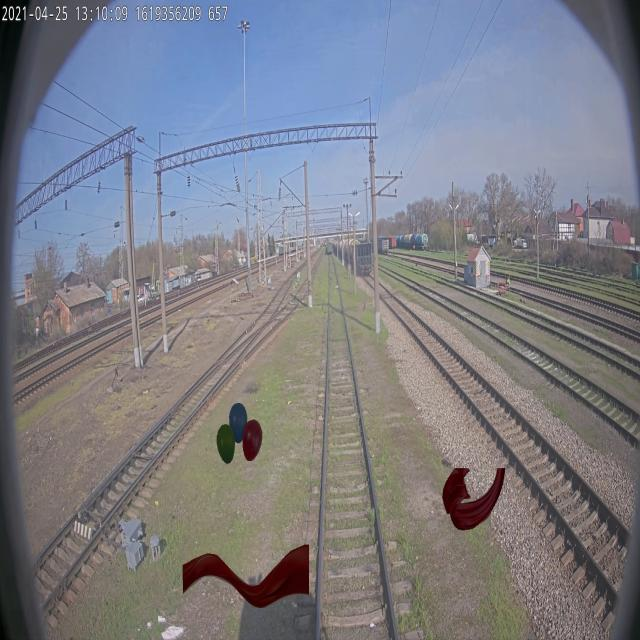balloon: (216, 401, 262, 465)
floating object: (183, 544, 309, 608), (442, 466, 506, 530)
